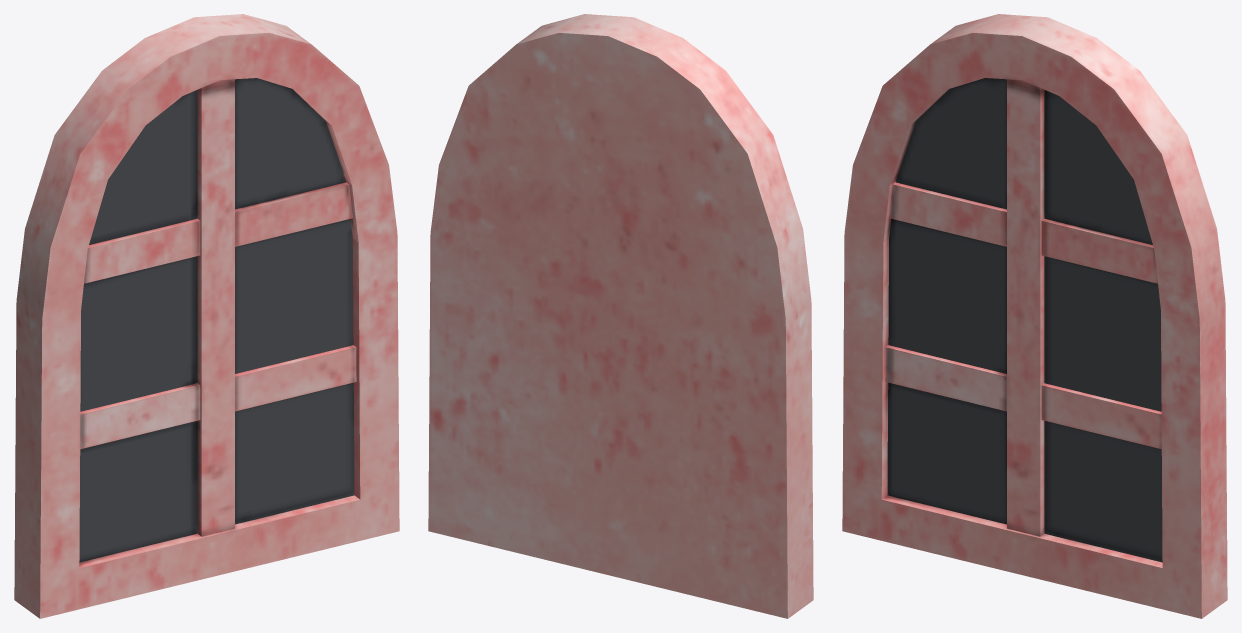
The model's file is sb_obj_outdoor024_PrincessCastle01_window00.fbx.
3 renders of one model, left to right at view 1: azimuth 30°, elevation 25°; view 2: azimuth 150°, elevation 25°; view 3: azimuth 330°, elevation 25°, orthographic.
Parts seen in each view (by area): view 1: sb_obj_outdoor024_PrincessCastle01_window00; view 2: sb_obj_outdoor024_PrincessCastle01_window00; view 3: sb_obj_outdoor024_PrincessCastle01_window00.
Boxes of the visible parts, left/top/right/bottom form: sb_obj_outdoor024_PrincessCastle01_window00: left=14, top=14, right=399, bottom=618; sb_obj_outdoor024_PrincessCastle01_window00: left=428, top=14, right=813, bottom=618; sb_obj_outdoor024_PrincessCastle01_window00: left=842, top=14, right=1227, bottom=618.
Size of the model in its own units: 1.05 by 1.51 by 0.1305.
